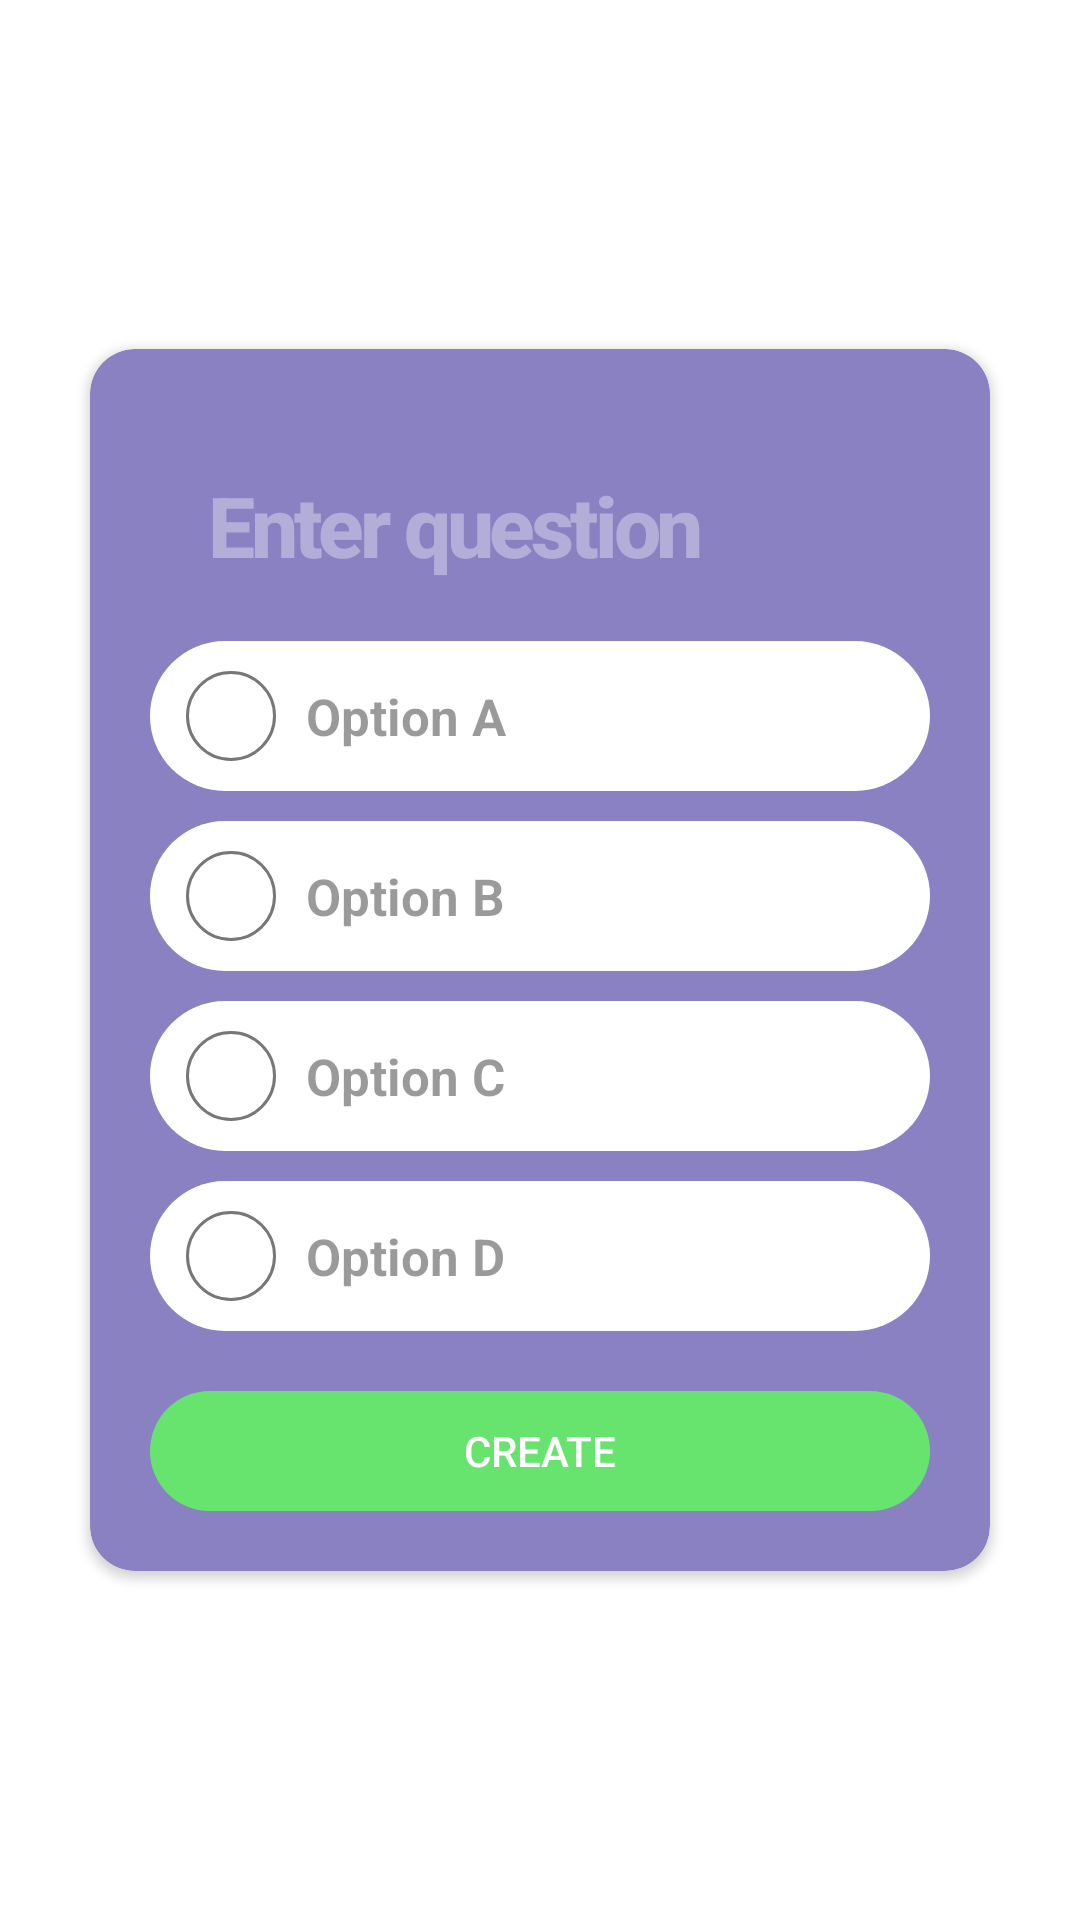

Point at icon controls on the screen. Image size 1080 x 1920, points as [x,y].
checkbox custom: [231,716], [231,896], [231,1076], [231,1256]
